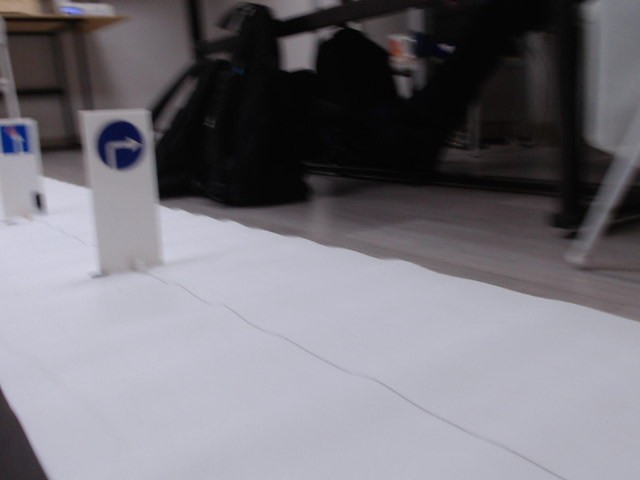Right: (93, 120, 148, 169)
